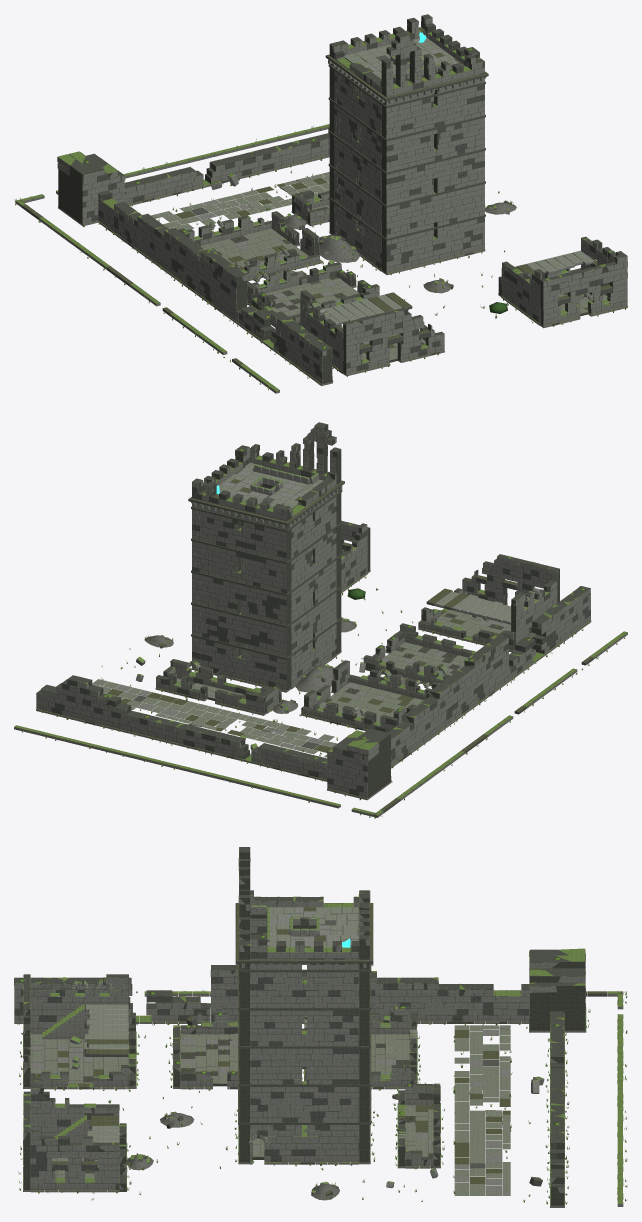
File: ruin_city_keep.glb
3 renders of one model, top to bottom at view 1: azimuth 30°, elevation 25°; view 2: azimuth 150°, elevation 25°; view 3: azimuth 270°, elevation 25°, orthographic. The views are drawn at different scales.
Visible parts, largest first — view 1: ruin_city_keep.001; view 2: ruin_city_keep.001; view 3: ruin_city_keep.001.
Boxes of the visible parts, bbox=[...] form: ruin_city_keep.001: bbox=[14, 14, 627, 393]; ruin_city_keep.001: bbox=[14, 422, 627, 818]; ruin_city_keep.001: bbox=[14, 847, 627, 1207].
Size of what is drawn, in the model's own units: 54.59 by 32.14 by 65.53.
Materials: 11 (10 with a texture image).
